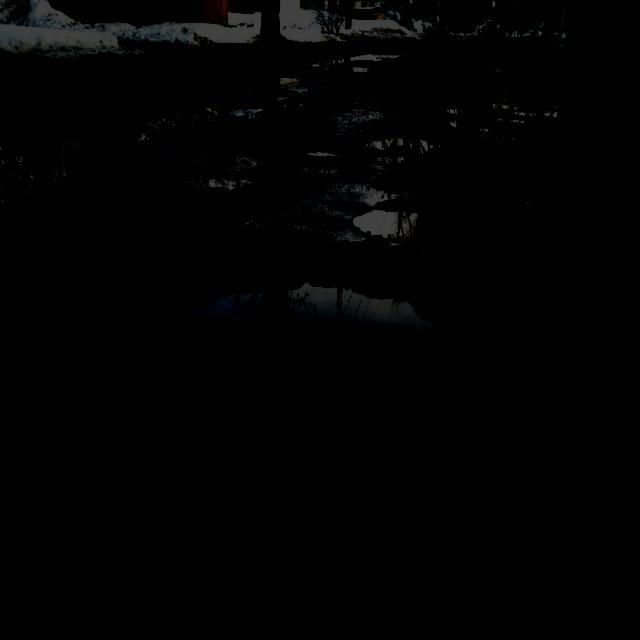Pothole: (6, 190, 574, 582), (0, 93, 262, 203), (263, 46, 401, 108), (346, 119, 451, 176)
